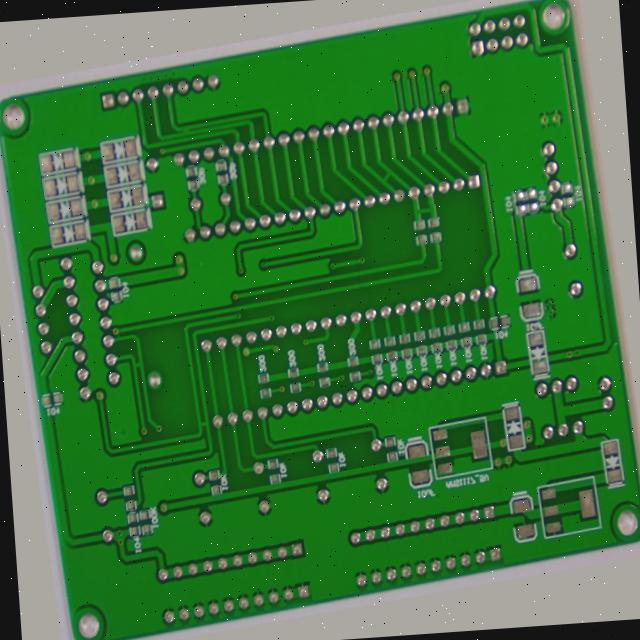short: (424, 202, 456, 220), (392, 160, 412, 179), (184, 84, 202, 103), (115, 336, 133, 354), (180, 412, 198, 428)
